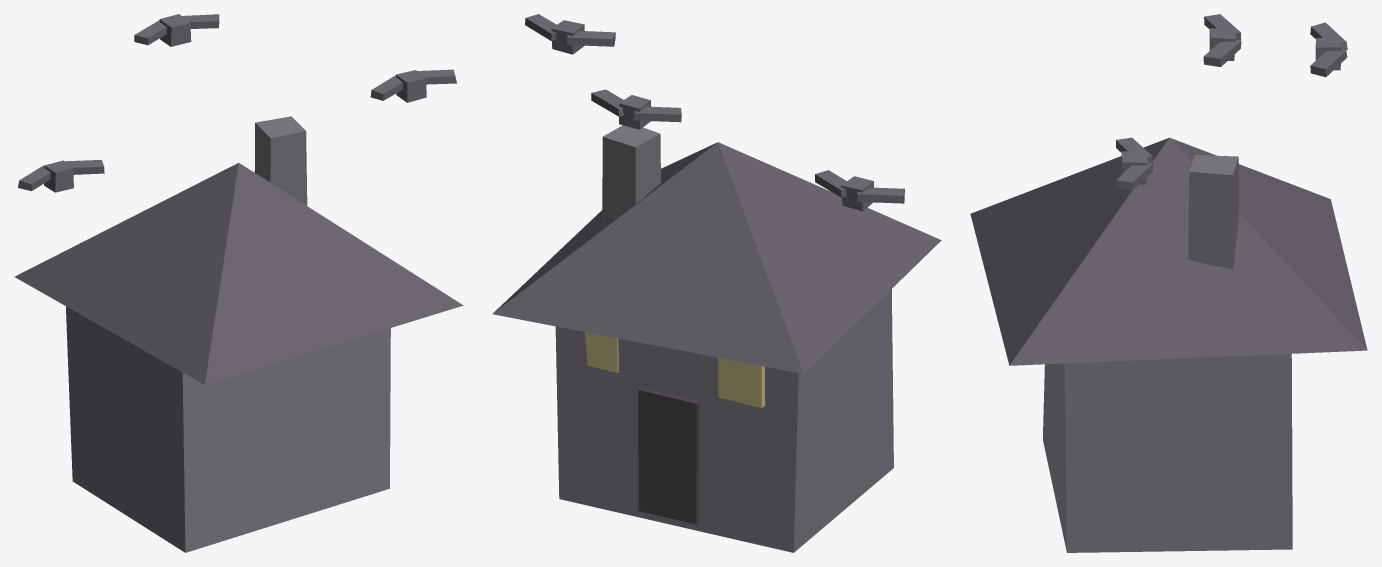
File: hauntedhouse.fbx
3 renders of one model, left to right at view 1: azimuth 30°, elevation 25°; view 2: azimuth 150°, elevation 25°; view 3: azimuth 270°, elevation 25°, orthographic. The views are drawn at different scales.
Parts seen in each view (by area): view 1: HauntedHouse; view 2: HauntedHouse; view 3: HauntedHouse.
Part boxes in pixels (x1=…): HauntedHouse: x1=14, y1=14, x2=463, y2=552; HauntedHouse: x1=492, y1=14, x2=941, y2=552; HauntedHouse: x1=970, y1=14, x2=1367, y2=552.
Size of the model in its own units: 5.84 by 5.8 by 4.5.
